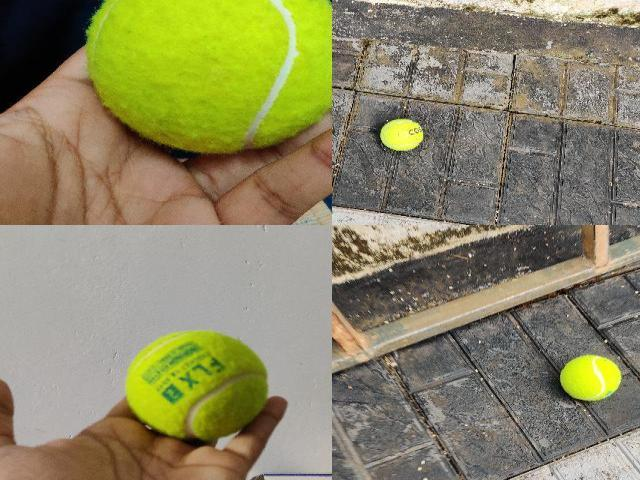tennis-ball: (85, 0, 331, 154), (124, 330, 268, 438), (559, 355, 621, 401), (379, 118, 423, 150)
